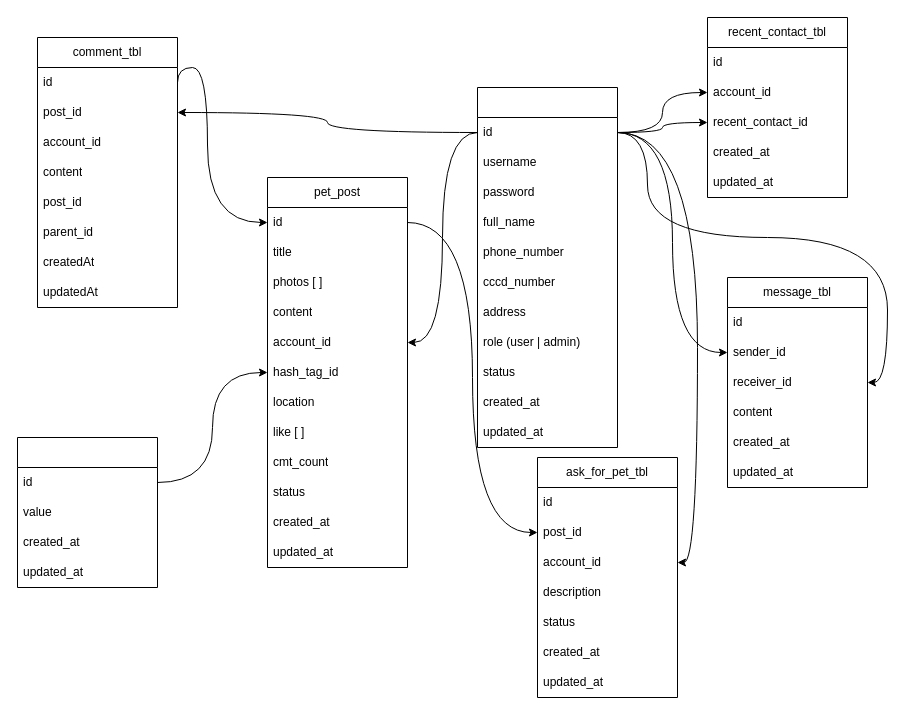
This 905x715 diagram has some shape labels left out. Each missing label, with the box of its shape:
hash_tag_tbl: (16, 436, 158, 588)
pet_account: (476, 86, 618, 448)
